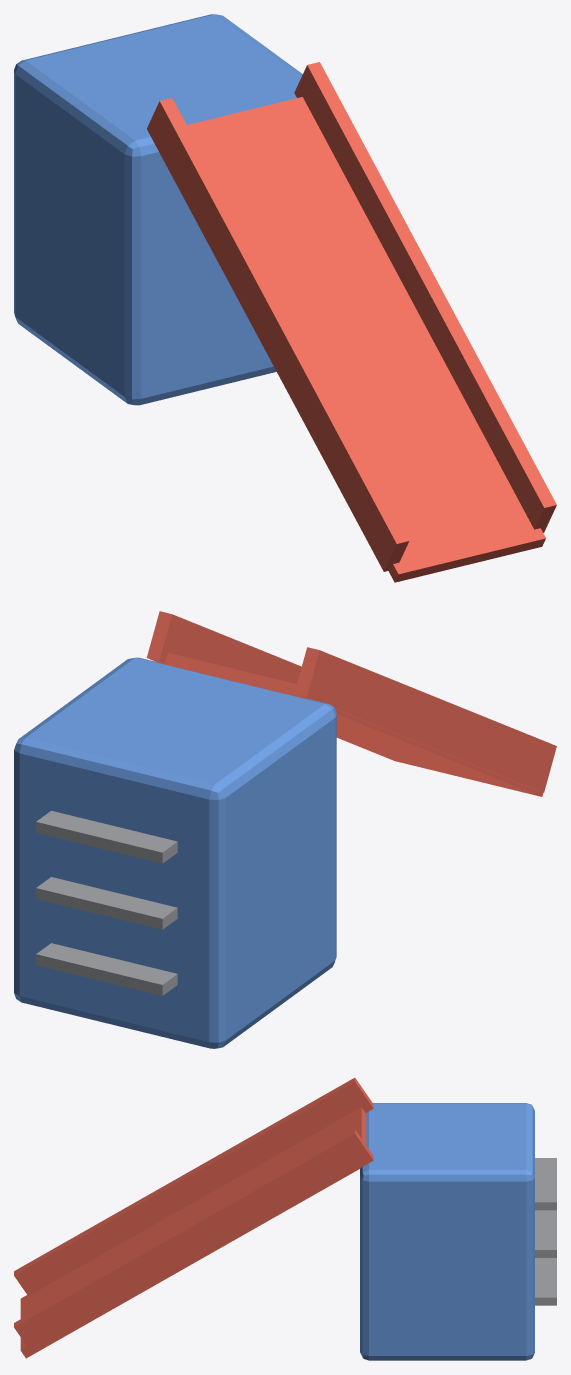
File: kids_slide.glb
The picture shows the model from 3 angles, top to bottom: view 1: azimuth 30°, elevation 25°; view 2: azimuth 150°, elevation 25°; view 3: azimuth 270°, elevation 25°; orthographic projection. The views are drawn at different scales.
Visible parts, largest first — view 1: kids_slide; view 2: kids_slide; view 3: kids_slide.
Part boxes in pixels (left/top/right/bottom): kids_slide: left=14, top=14, right=556, bottom=582; kids_slide: left=14, top=611, right=556, bottom=1048; kids_slide: left=14, top=1077, right=556, bottom=1360.
Size of the model in its own units: 1 by 1.43 by 3.1.
